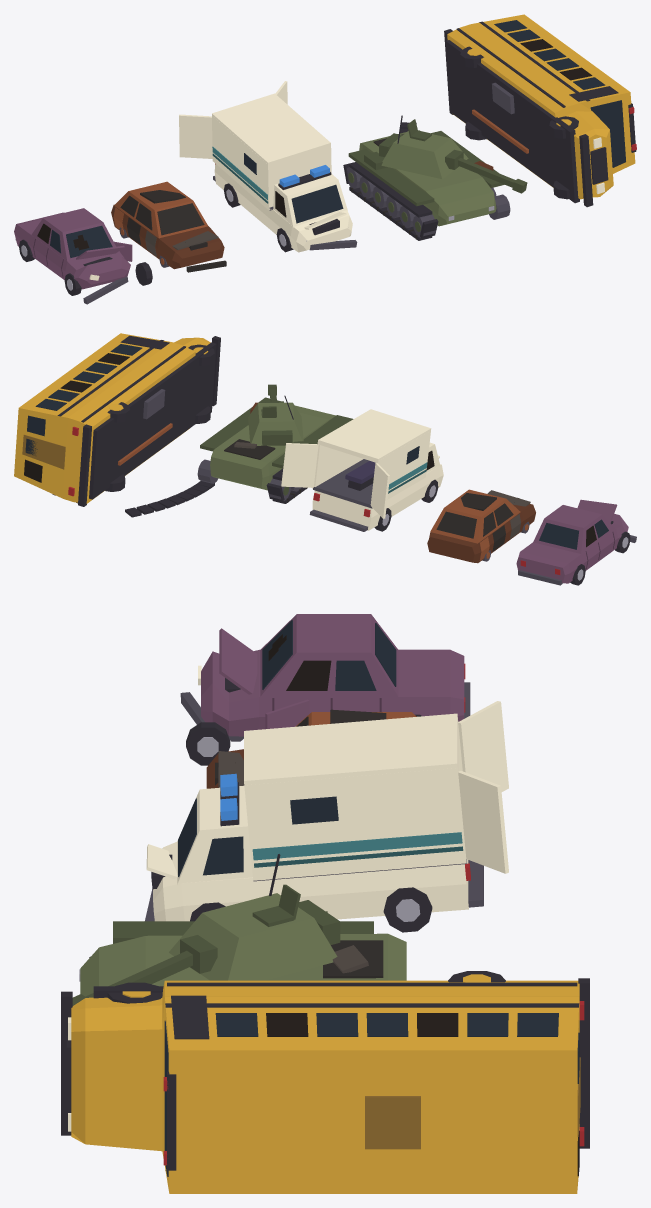
The model's file is street_wrecks.glb.
The picture shows the model from 3 angles, top to bottom: view 1: azimuth 30°, elevation 25°; view 2: azimuth 150°, elevation 25°; view 3: azimuth 270°, elevation 25°; orthographic projection. The views are drawn at different scales.
Parts seen in each view (by area): view 1: SchoolBus, Ambulance, Tank, CrashedCar, BurntCar; view 2: SchoolBus, Ambulance, Tank, CrashedCar, BurntCar; view 3: SchoolBus, Ambulance, CrashedCar, Tank, BurntCar.
Boxes of the visible parts, box(x1,y1,x2,y2) form: SchoolBus: box(444, 14, 636, 207); Ambulance: box(179, 81, 357, 252); Tank: box(343, 115, 527, 240); CrashedCar: box(14, 208, 152, 304); BurntCar: box(111, 181, 226, 272); SchoolBus: box(14, 333, 220, 506); Ambulance: box(281, 409, 443, 531); Tank: box(125, 384, 353, 517); CrashedCar: box(516, 499, 636, 585); BurntCar: box(427, 489, 535, 563); SchoolBus: box(61, 971, 589, 1193); Ambulance: box(145, 701, 508, 932); CrashedCar: box(180, 614, 470, 765); Tank: box(72, 854, 406, 1005); BurntCar: box(206, 709, 416, 788).
Bounding box in the file's own units: 52.18 × 8.9 × 22.7.
1 material, 1 textured.
